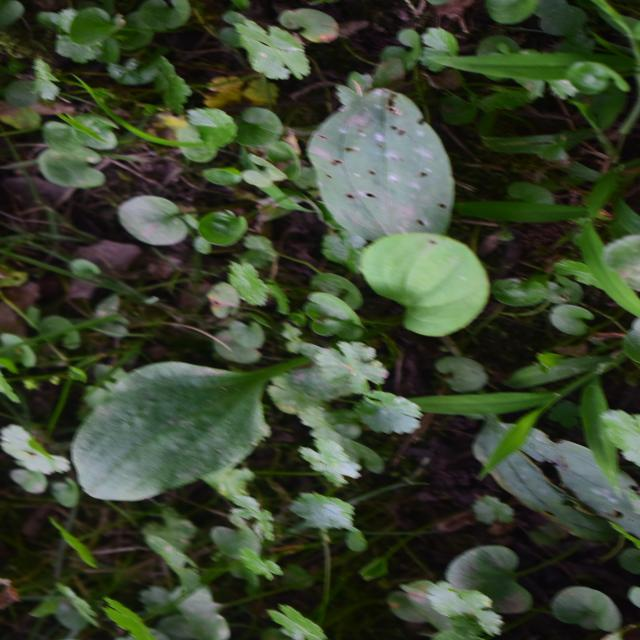plantain: (135, 69, 507, 487)
